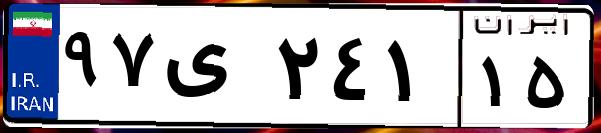1: (385, 28, 445, 110), (475, 38, 525, 113)
2: (270, 28, 330, 110)
4: (330, 28, 385, 110)
5: (525, 38, 570, 115)
7: (110, 28, 158, 98)
9: (57, 26, 110, 100)
ی: (158, 20, 270, 120)
